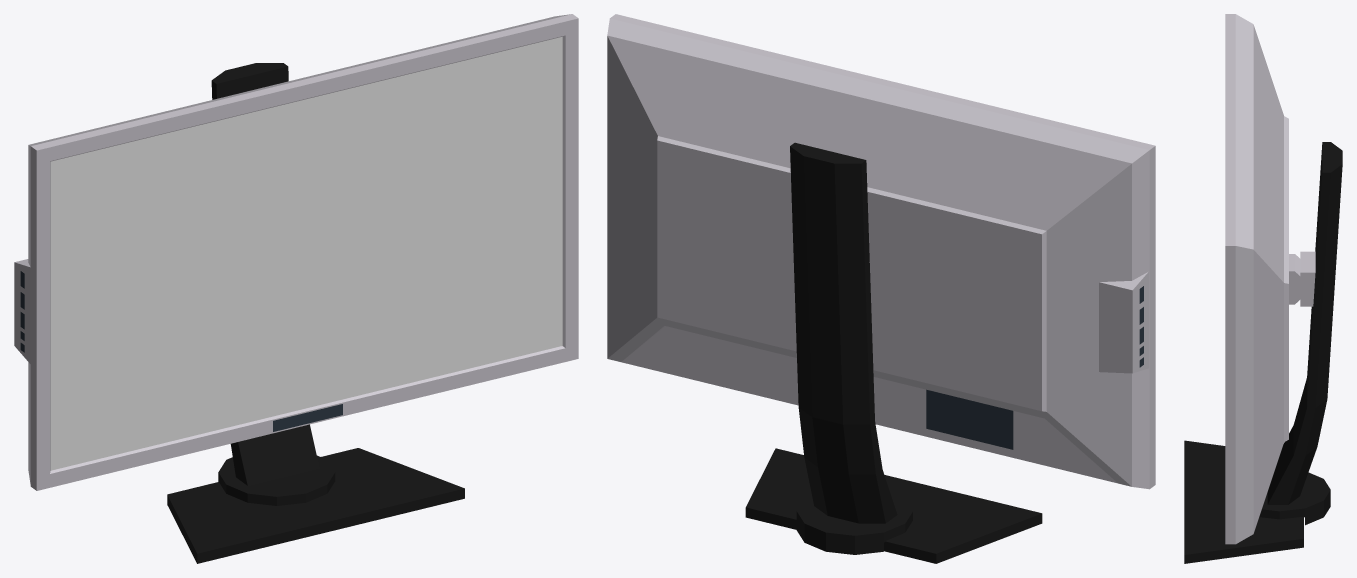
Rendered from monitor.fbx.
3 views of the same model, side by side, from view 1: azimuth 30°, elevation 25°; view 2: azimuth 150°, elevation 25°; view 3: azimuth 270°, elevation 25° (orthographic). The views are drawn at different scales.
Visible parts, largest first — view 1: Monitor_01.012; view 2: Monitor_01.012; view 3: Monitor_01.012.
Part boxes in pixels (box(x1,y1,x2,y2)): Monitor_01.012: box(14, 14, 578, 563); Monitor_01.012: box(607, 14, 1155, 563); Monitor_01.012: box(1184, 14, 1342, 563).
Size of the model in its own units: 0.5581 by 0.4228 by 0.1611.
